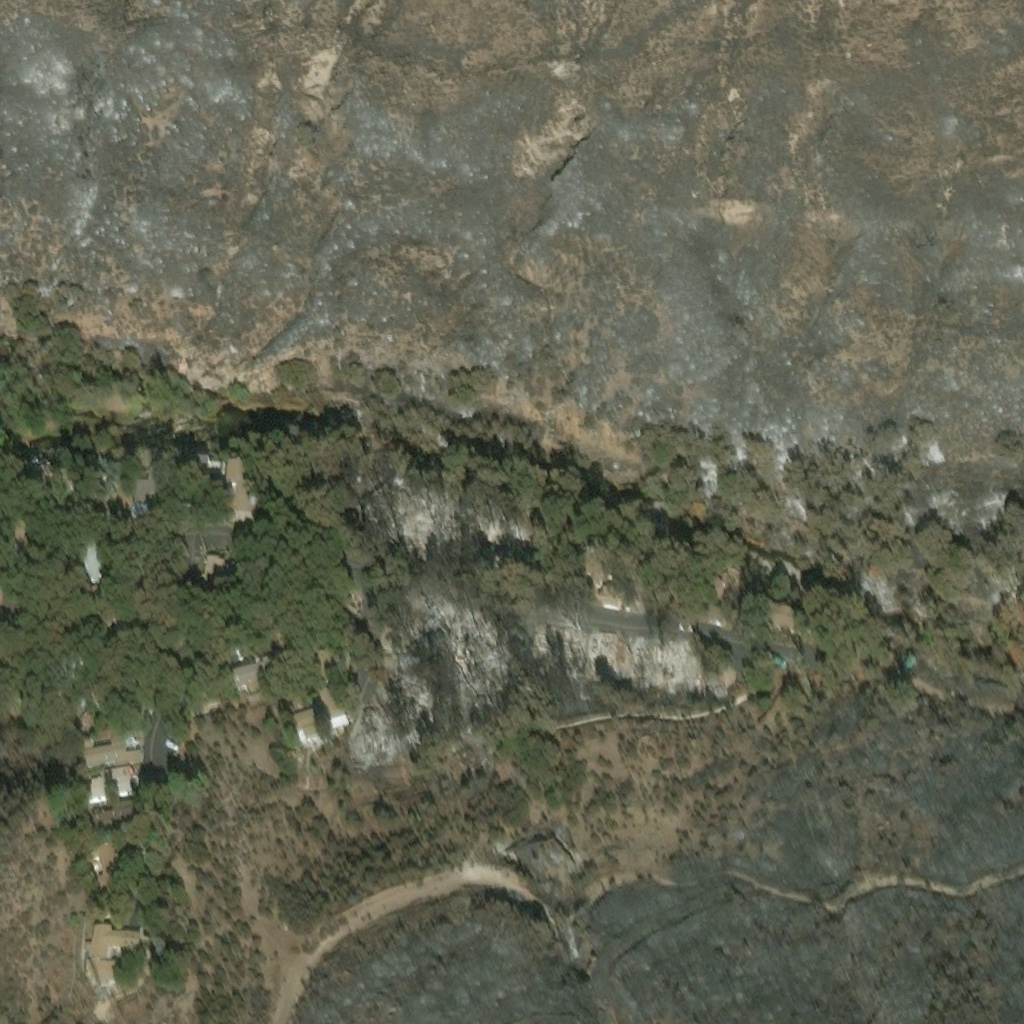0 no-damage: (84, 927, 146, 989), (227, 465, 276, 530), (86, 736, 146, 770), (95, 842, 133, 894), (136, 473, 167, 530), (92, 771, 146, 802), (203, 560, 244, 596), (234, 663, 280, 694), (768, 602, 800, 631), (293, 708, 325, 734), (87, 553, 104, 590), (298, 727, 325, 750), (196, 460, 224, 476), (329, 718, 350, 734)
3 destroyed: (346, 713, 407, 778), (586, 628, 630, 681), (400, 612, 447, 649), (658, 646, 692, 686), (386, 668, 420, 702), (702, 673, 723, 694)
4 un-classified: (521, 537, 540, 558), (92, 463, 112, 481)
